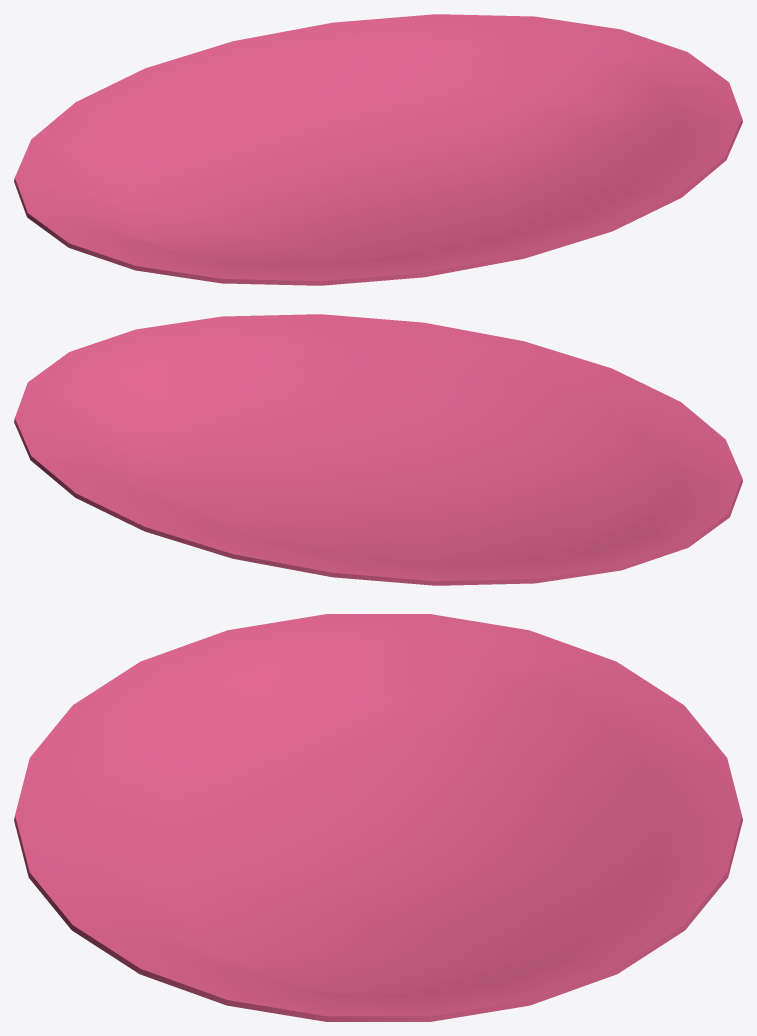
File: Tableware_V5_3.fbx
3 views of the same model, one above another, from view 1: azimuth 30°, elevation 25°; view 2: azimuth 150°, elevation 25°; view 3: azimuth 270°, elevation 25° (orthographic). The views are drawn at different scales.
Visible parts, largest first — view 1: SM_Tableware_V5_3; view 2: SM_Tableware_V5_3; view 3: SM_Tableware_V5_3.
Part boxes in pixels (left/top/right/bottom): SM_Tableware_V5_3: left=14, top=14, right=742, bottom=285; SM_Tableware_V5_3: left=14, top=314, right=742, bottom=585; SM_Tableware_V5_3: left=14, top=614, right=742, bottom=1021.
Bounding box in the file's own units: 25.84 × 1.43 × 19.75.
